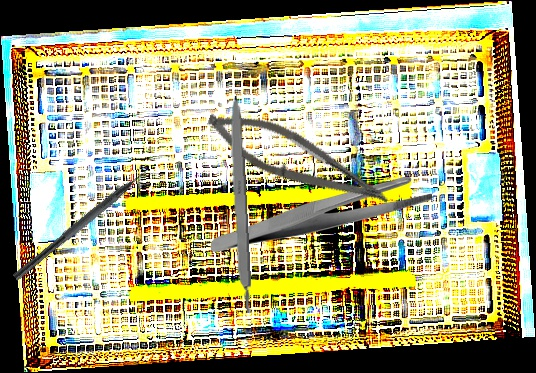Chopper: (12, 159, 163, 291)
Dressing Forceps: (211, 177, 432, 252)
Micro Scissor: (198, 99, 400, 217)
Scalpel Handle: (226, 95, 253, 314)
